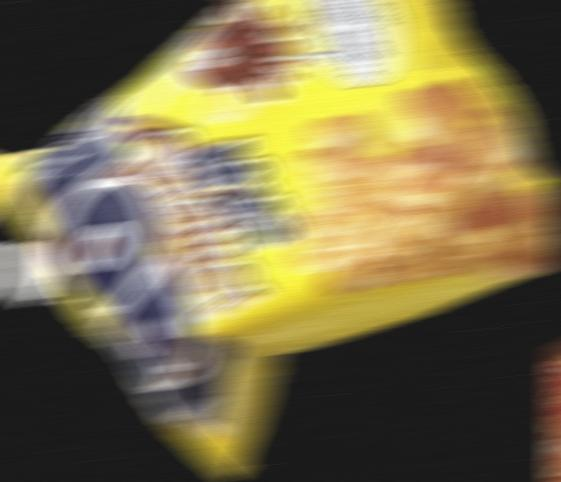Moby Caramel: (0, 0, 560, 482)
pancit canton sweet and spicy: (548, 314, 561, 482)
